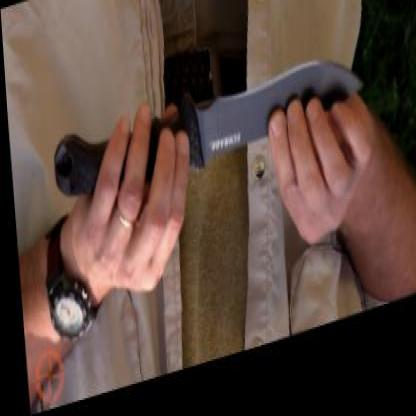knife: (42, 42, 368, 226)
